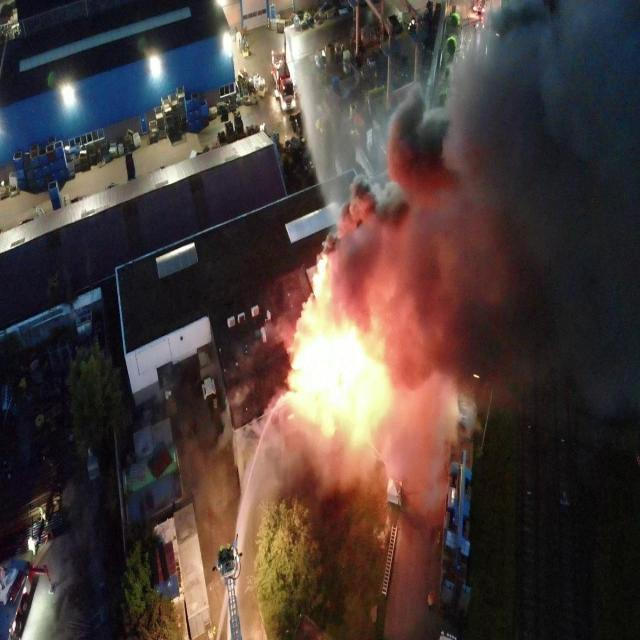Fire: (290, 324, 384, 420), (312, 254, 328, 297)
Smoke: (242, 0, 640, 640), (212, 384, 250, 457)
